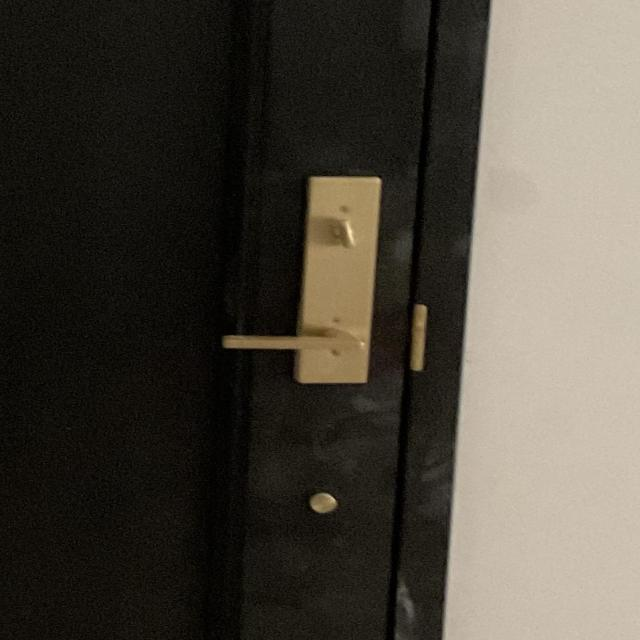door_handle: (214, 318, 373, 366)
